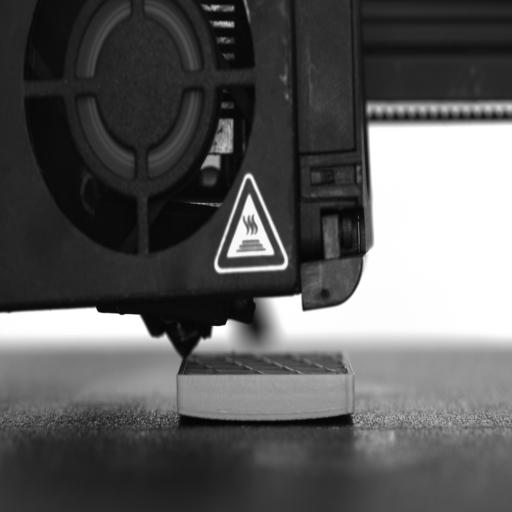warp: (174, 399, 257, 429), (318, 394, 359, 425)
